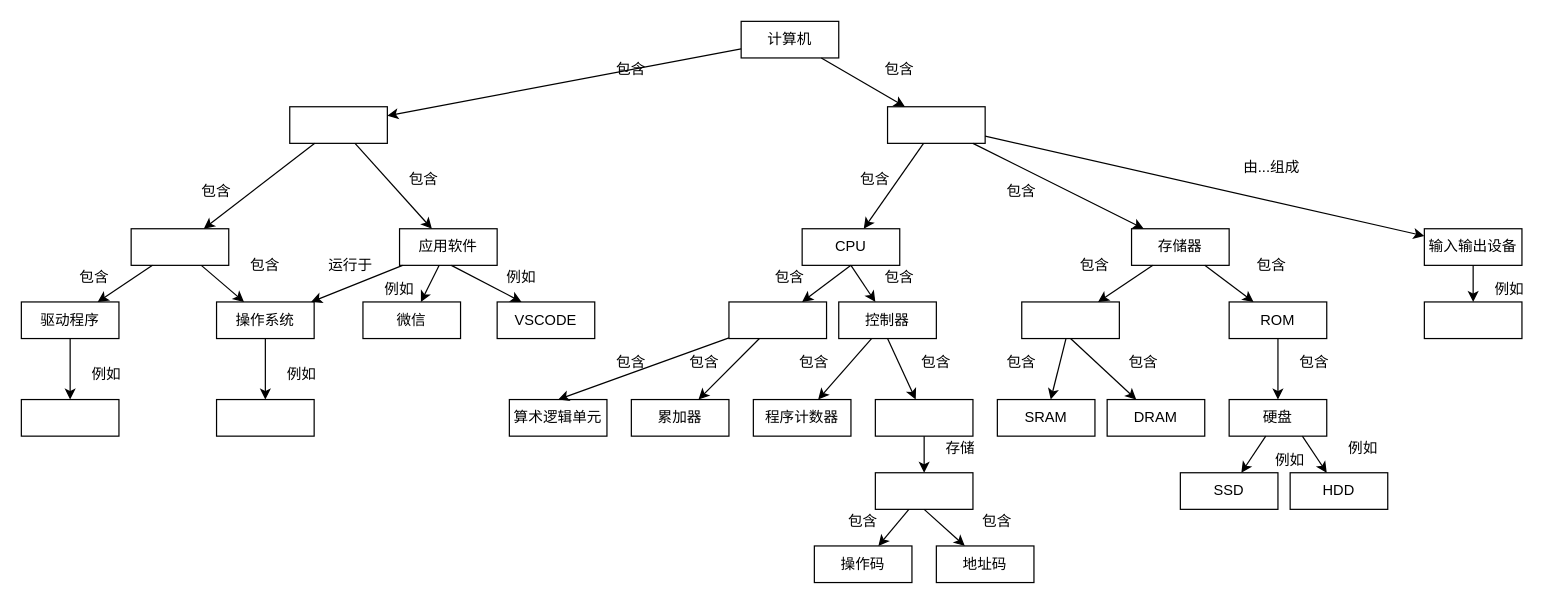
This 1556x604 diagram has some shape labels left out. Each missing label, with the centre of its shape:
"RAM" belongs at (1070,320).
"windows" belongs at (264,417).
"指令" belongs at (923,490).
"指令寄存器" belongs at (923,417).
"显卡驱动" belongs at (69,417).
"硬件" belongs at (935,124).
"系统软件" belongs at (179,246).
"软件" belongs at (338,124).
"运算器" belongs at (777,320).
"键盘鼠标" belongs at (1472,320).
